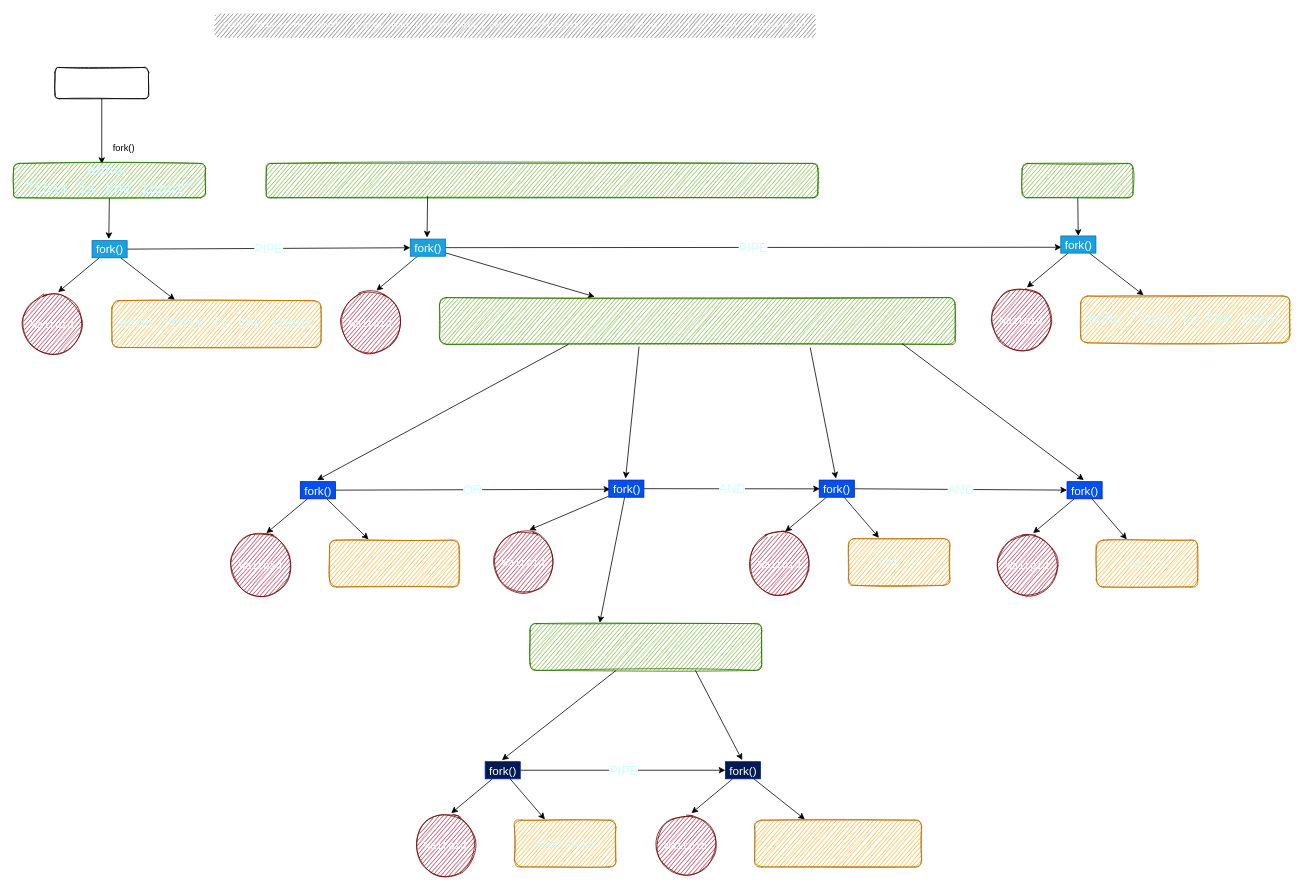
Image size: 1303x890. Some labels were removed from this diagram. The box of each missing label's shape, as (x1, y1, x2, y2) in pixels:
( grep input || (echo hola | cat -e < infile.txt) && cat -n && wc -l ): (266, 163, 818, 198)
cat -e < infile.txt: (754, 819, 922, 867)
echo fin: (1021, 163, 1133, 198)
echo hola | cat -e < infile.txt: (529, 623, 762, 670)
grep input: (329, 539, 459, 587)
grep input || (echo hola | cat -e < infile.txt) && cat -n && wc -l: (439, 297, 955, 344)
input: (54, 67, 149, 99)
